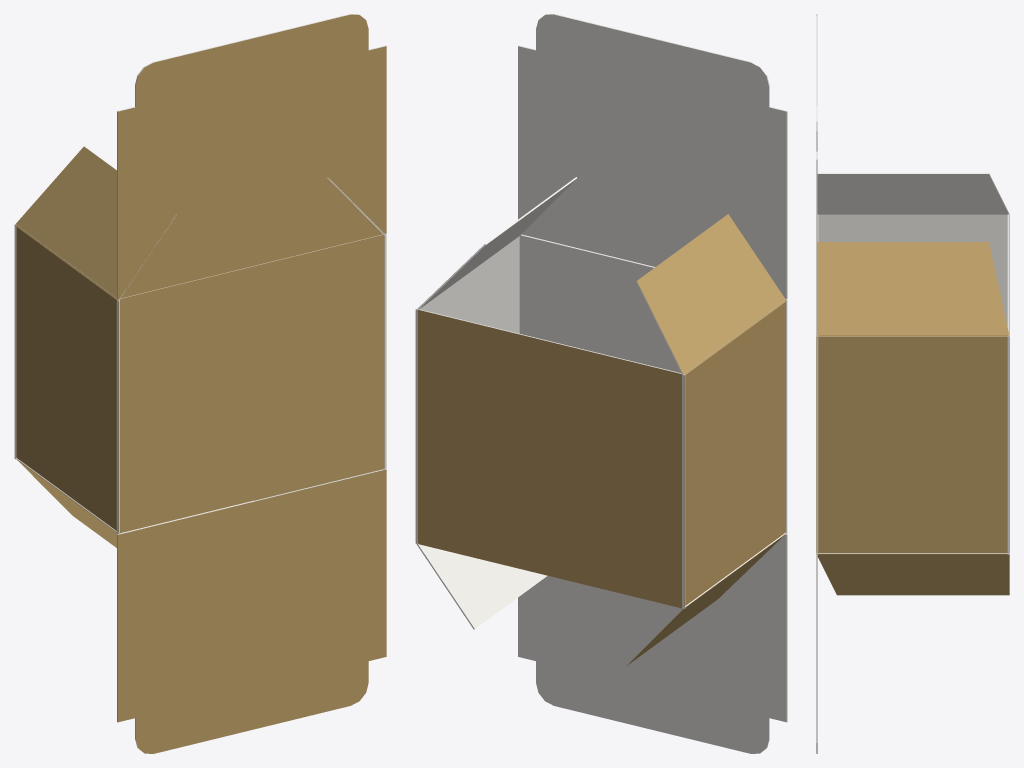
3 renders of one model, left to right at view 1: azimuth 30°, elevation 25°; view 2: azimuth 150°, elevation 25°; view 3: azimuth 270°, elevation 25°, orthographic. The views are drawn at different scales.
Visible parts, largest first — view 1: Packive_Box_fefco0210; view 2: Packive_Box_fefco0210; view 3: Packive_Box_fefco0210.
Boxes of the visible parts, box(x1,y1,x2,y2) form: Packive_Box_fefco0210: box(14, 14, 386, 753); Packive_Box_fefco0210: box(415, 14, 787, 753); Packive_Box_fefco0210: box(816, 14, 1009, 753).
Size of the model in its own units: 0.3 by 0.7375 by 0.2.
Materials: 24 (12 with a texture image).
